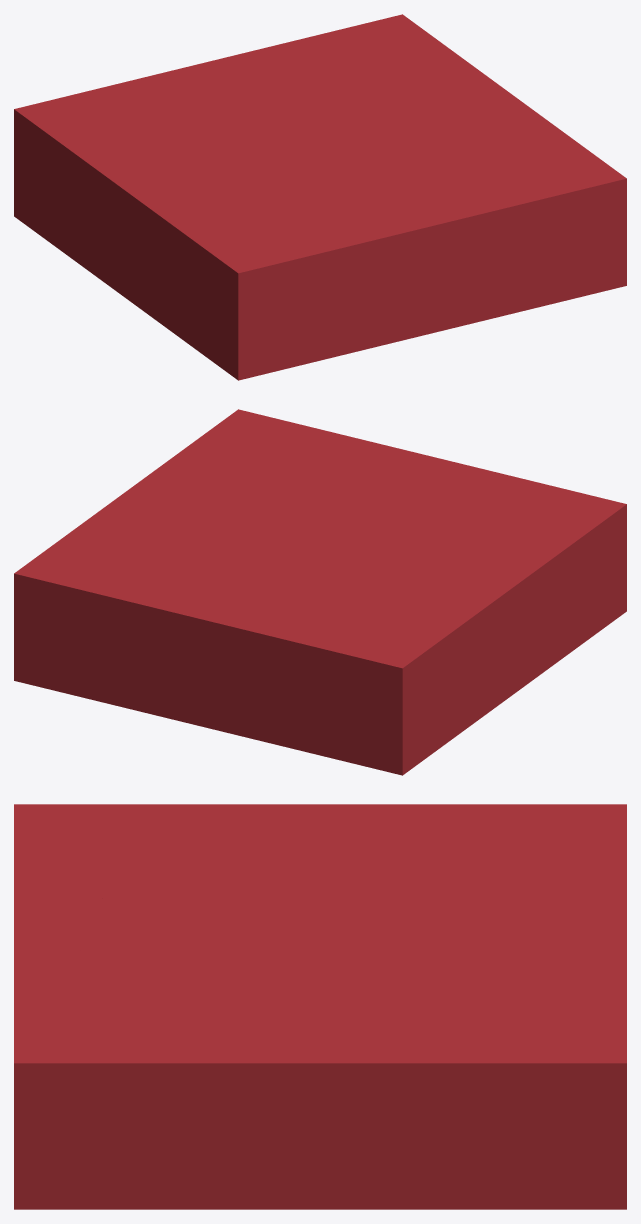
3 views of the same model, one above another, from view 1: azimuth 30°, elevation 25°; view 2: azimuth 150°, elevation 25°; view 3: azimuth 270°, elevation 25° (orthographic). The views are drawn at different scales.
Visible parts, largest first — view 1: X100_sh_1, X100_sh_4, X100_sh_17, X100_sh_12, X100_sh_20, X100_sh_15, X100_sh_13, X100_sh_19, X100_sh_10, X100_sh_9, X100_sh_11, X100_sh_7 (+5 smaller); view 2: X100_sh_15, X100_sh_12, X100_sh_11, X100_sh_5, X100_sh_20, X100_sh_13, X100_sh_19, X100_sh_10, X100_sh_17, X100_sh_4, X100_sh_9, X100_sh_8 (+4 smaller); view 3: X100_sh_15, X100_sh_4, X100_sh_19, X100_sh_6, X100_sh_20, X100_sh_10, X100_sh_11, X100_sh_13, X100_sh_5, X100_sh_12, X100_sh_8, X100_sh_1 (+4 smaller).
Boxes of the visible parts, x1,y1,x2,y2 form: X100_sh_1: [345, 191, 520, 354]; X100_sh_4: [471, 122, 626, 293]; X100_sh_17: [156, 242, 314, 380]; X100_sh_12: [14, 93, 133, 253]; X100_sh_20: [319, 119, 475, 220]; X100_sh_15: [246, 14, 481, 95]; X100_sh_13: [118, 176, 283, 313]; X100_sh_19: [322, 72, 530, 144]; X100_sh_10: [146, 138, 347, 215]; X100_sh_9: [65, 158, 156, 320]; X100_sh_11: [193, 52, 324, 137]; X100_sh_7: [272, 215, 359, 363]; X100_sh_15: [14, 515, 219, 712]; X100_sh_12: [328, 600, 478, 775]; X100_sh_11: [145, 554, 355, 740]; X100_sh_5: [219, 599, 401, 757]; X100_sh_20: [256, 458, 457, 544]; X100_sh_13: [473, 503, 590, 665]; X100_sh_19: [93, 479, 260, 560]; X100_sh_10: [355, 493, 490, 593]; X100_sh_17: [540, 485, 626, 670]; X100_sh_4: [161, 409, 354, 477]; X100_sh_9: [439, 586, 544, 737]; X100_sh_8: [255, 522, 389, 575]; X100_sh_15: [411, 959, 626, 1209]; X100_sh_4: [14, 979, 225, 1209]; X100_sh_19: [226, 956, 450, 1209]; X100_sh_6: [151, 999, 347, 1209]; X100_sh_20: [79, 898, 376, 1000]; X100_sh_10: [101, 825, 401, 910]; X100_sh_11: [400, 888, 626, 968]; X100_sh_13: [70, 804, 348, 860]; X100_sh_5: [464, 844, 626, 926]; X100_sh_12: [408, 804, 626, 847]; X100_sh_8: [228, 891, 407, 959]; X100_sh_1: [14, 885, 81, 985].
Size of the model in its own units: 200 by 52.74 by 200.
